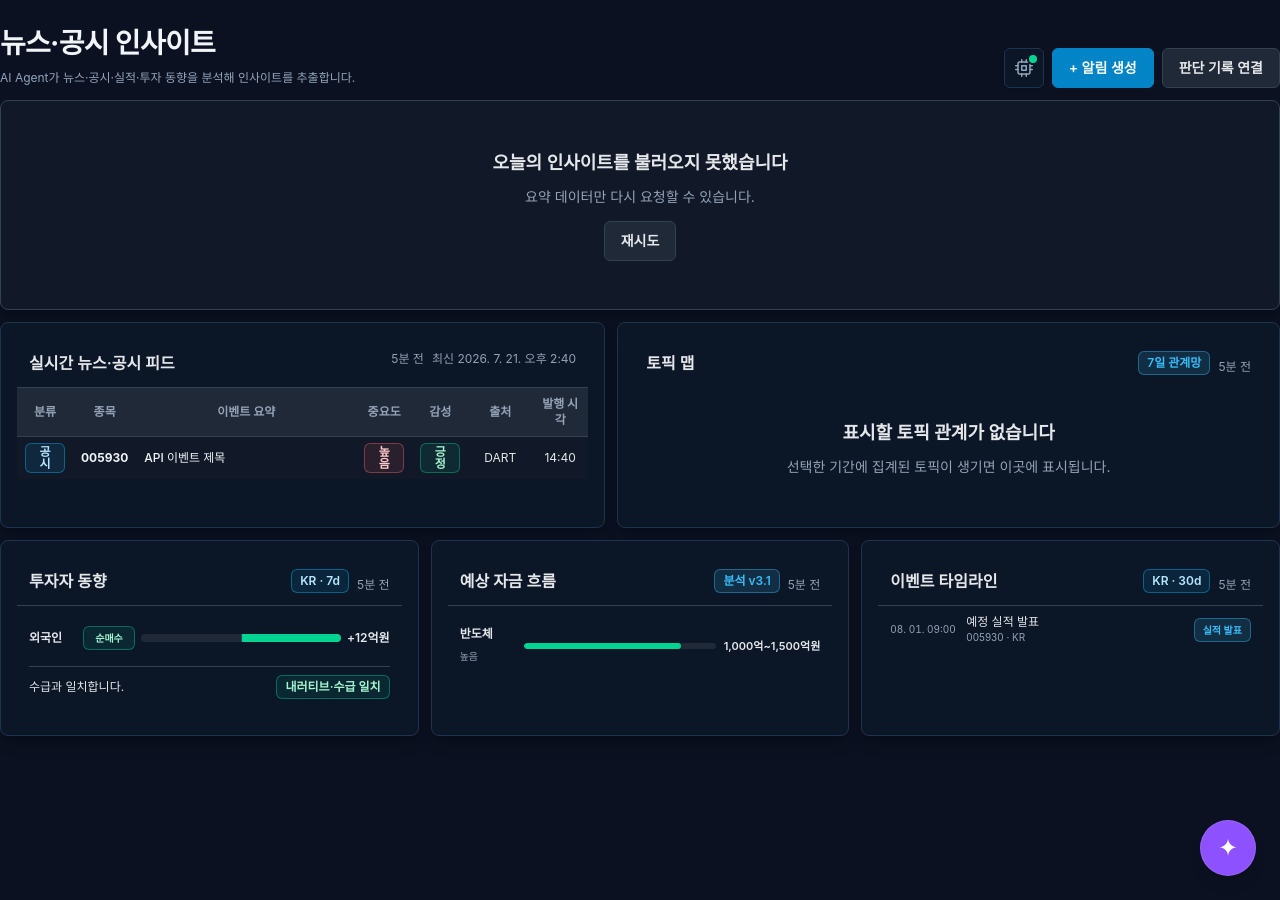
Test: NewsInsightsOverviewPage › keeps the event panel visible when the overview request fails
This screenshot has width=1280, height=900.
Expected: the link "API 이벤트 제목" is shown, top-left (144, 450), bottom-right (225, 465)
Expected: the heading "오늘의 인사이트를 불러오지 못했습니다" is shown, top-left (492, 149), bottom-right (788, 177)
Click the button named "에이전트 브리핑 열기": (1228,848) top-left (1200, 820), bottom-right (1256, 876)
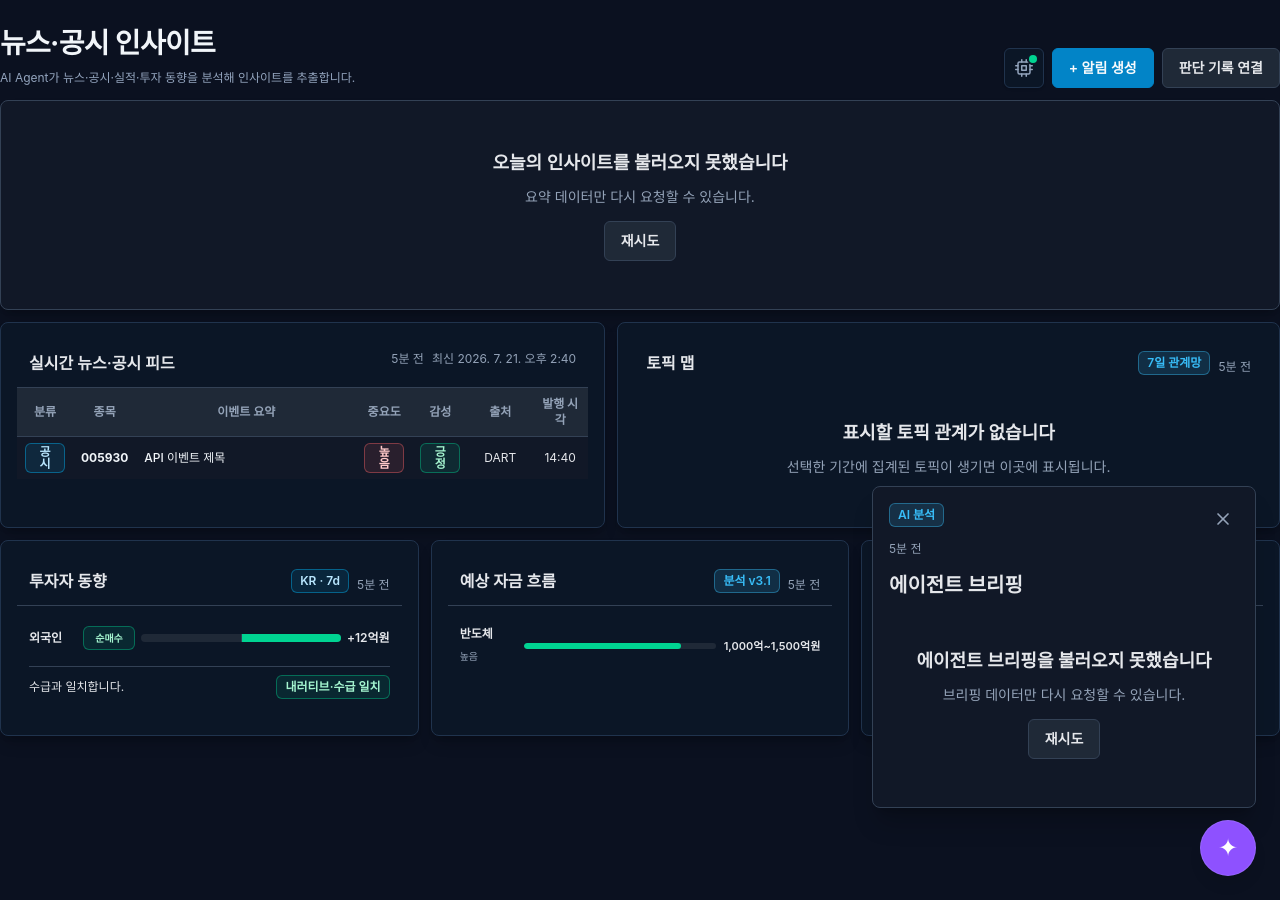
Result: the heading "에이전트 브리핑을 불러오지 못했습니다" is shown at top-left (916, 647), bottom-right (1212, 675)
